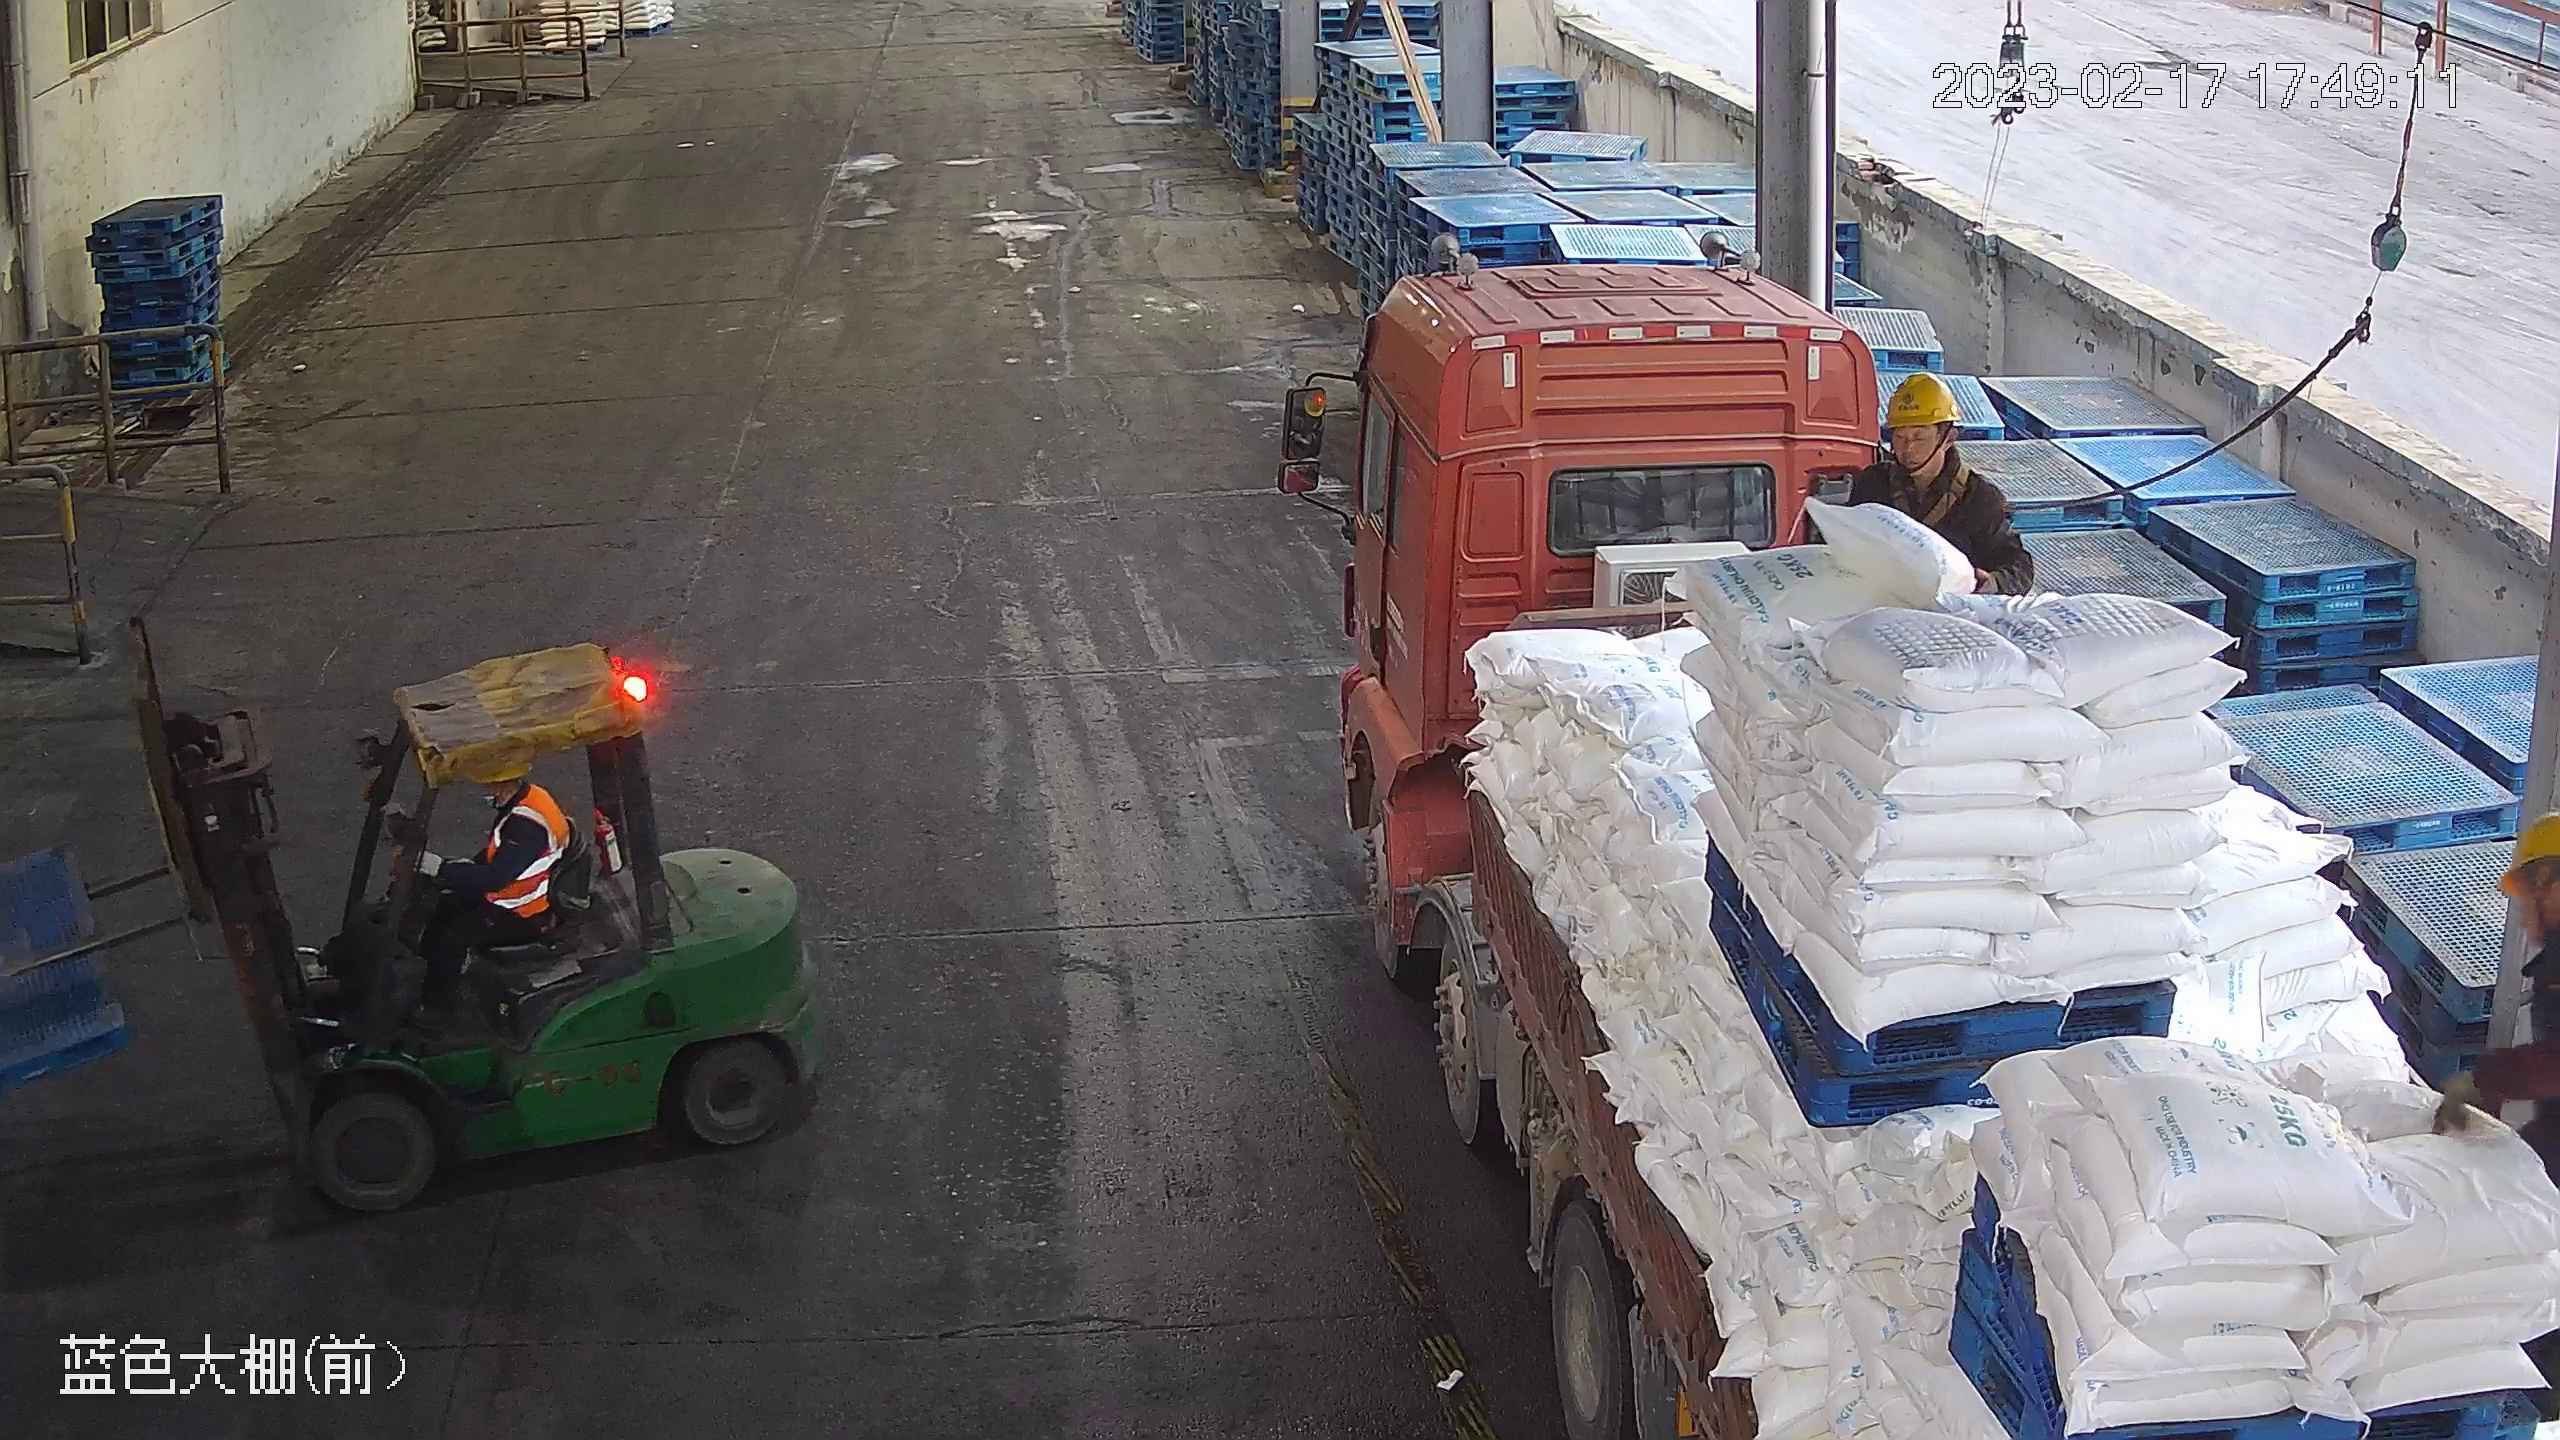belt: (1888, 456, 1998, 529)
head: (1853, 369, 2013, 520), (474, 759, 573, 854)
helmet: (2494, 810, 2560, 896), (1878, 369, 1962, 428)
people: (400, 758, 573, 1019)
truck: (1276, 248, 2558, 1440)
